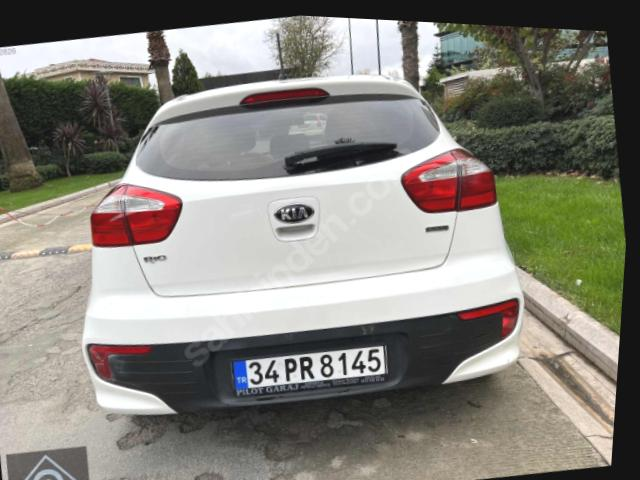plaka: (231, 344, 388, 395)
